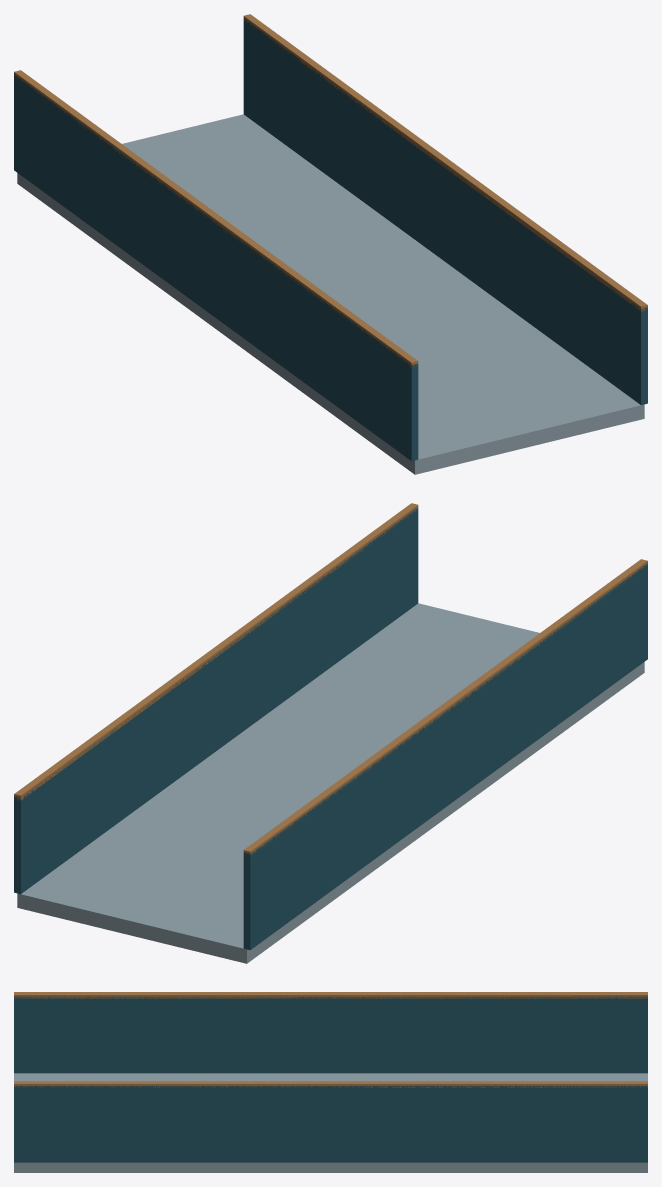
Rendered from bridge.lod2.glb.
3 views of the same model, one above another, from view 1: azimuth 30°, elevation 25°; view 2: azimuth 150°, elevation 25°; view 3: azimuth 270°, elevation 25° (orthographic). The views are drawn at different scales.
Parts seen in each view (by area): view 1: structure; view 2: structure; view 3: structure.
Part boxes in pixels (x1,y1,x2,y2): structure: (14,14,647,474); structure: (14,503,647,963); structure: (14,992,647,1172).
Bounding box in the file's own units: 4.12 × 1.88 × 12.
